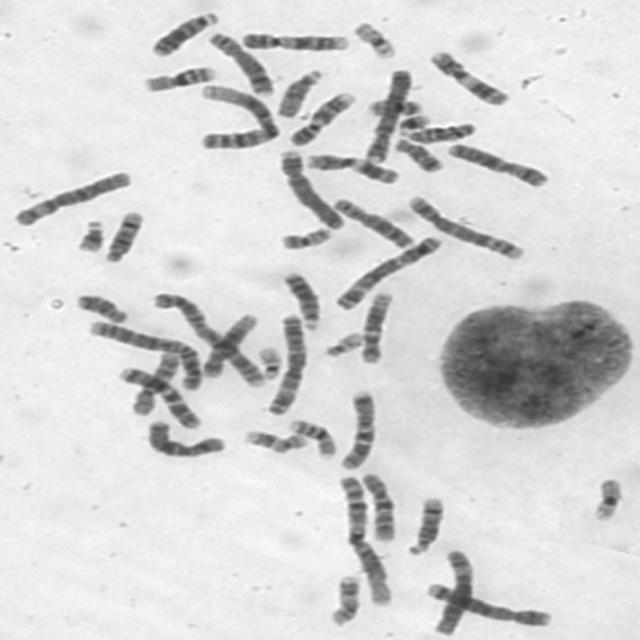A1: (334, 473, 394, 608), (194, 82, 280, 151)
A2: (150, 287, 268, 388), (82, 317, 208, 392)
A3: (330, 231, 446, 311), (262, 310, 310, 417)
B4: (274, 146, 347, 230), (357, 63, 415, 165)
B5: (403, 191, 528, 262), (420, 579, 554, 628)
C10: (125, 350, 183, 418), (356, 468, 398, 543)
C11: (424, 46, 512, 108), (301, 150, 402, 186)
C12: (198, 311, 262, 379), (356, 289, 396, 365)
C6: (8, 166, 133, 227), (429, 547, 477, 636)
C7: (110, 364, 205, 429), (334, 387, 378, 472)
C8: (204, 29, 277, 98), (329, 194, 417, 250)
C9: (285, 89, 357, 146), (236, 27, 352, 54)
D13: (147, 8, 220, 58), (276, 267, 323, 331)
D14: (404, 493, 446, 556), (100, 208, 146, 264)
D15: (272, 65, 324, 118), (403, 120, 479, 144)
E16: (138, 61, 218, 93), (284, 416, 338, 459)
E17: (324, 570, 363, 628), (240, 427, 310, 455)
E18: (71, 289, 131, 324), (390, 136, 445, 174)
F19: (348, 18, 399, 60), (585, 472, 626, 523)
F20: (275, 222, 337, 250), (364, 97, 425, 118)
G21: (72, 215, 107, 254), (393, 110, 433, 136)
G22: (321, 328, 366, 358), (253, 342, 284, 381)
X: (444, 140, 550, 189), (142, 416, 229, 460)
